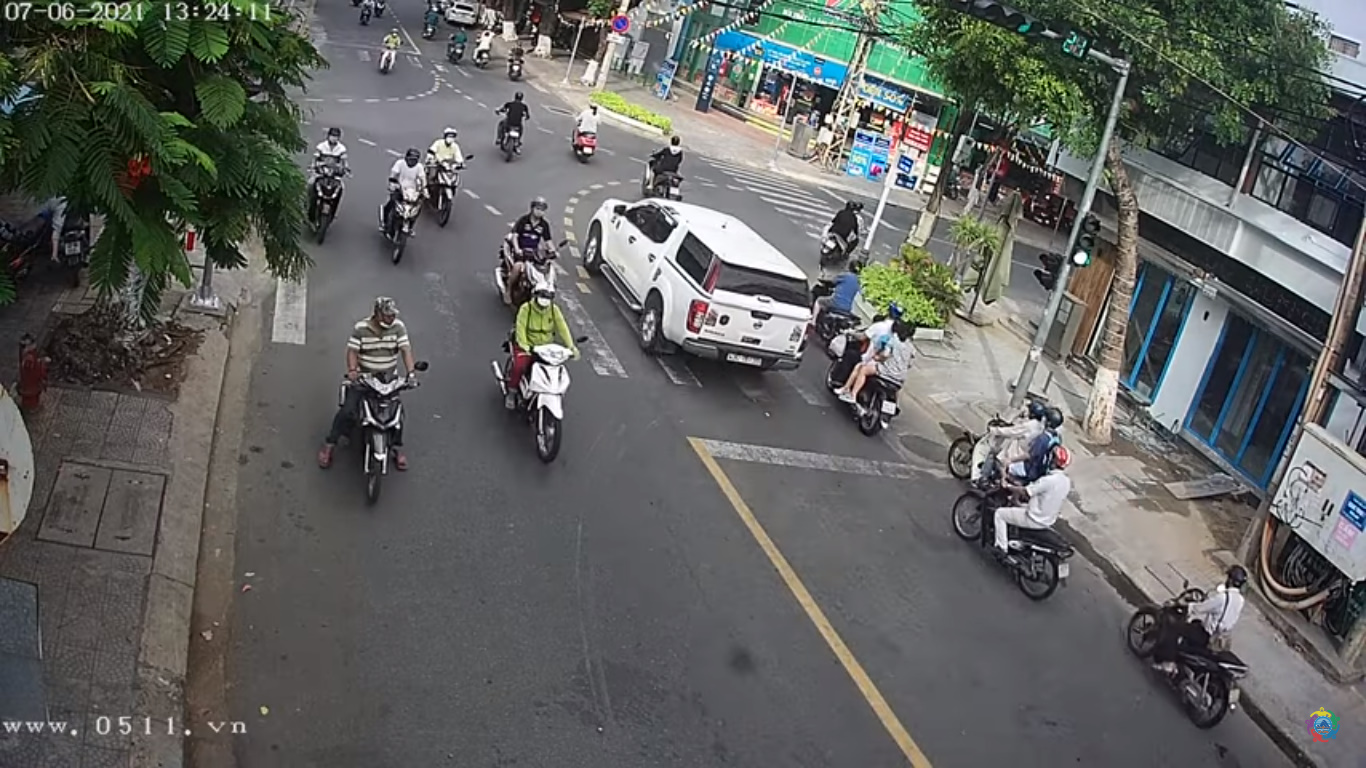motorbike: (332, 297, 427, 494), (501, 278, 582, 464), (490, 199, 570, 309), (300, 127, 354, 239), (383, 144, 427, 257), (424, 130, 468, 225)
